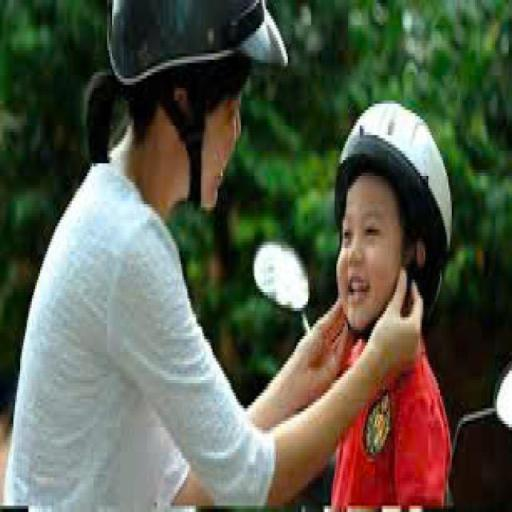with helmet: (331, 96, 458, 263), (96, 0, 290, 88)
